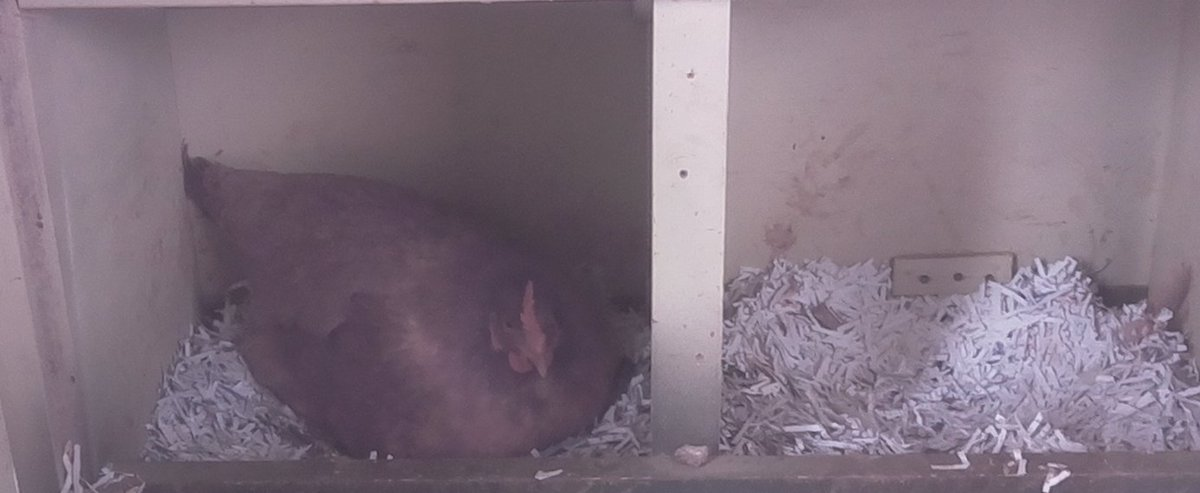hen: (160, 134, 634, 450)
